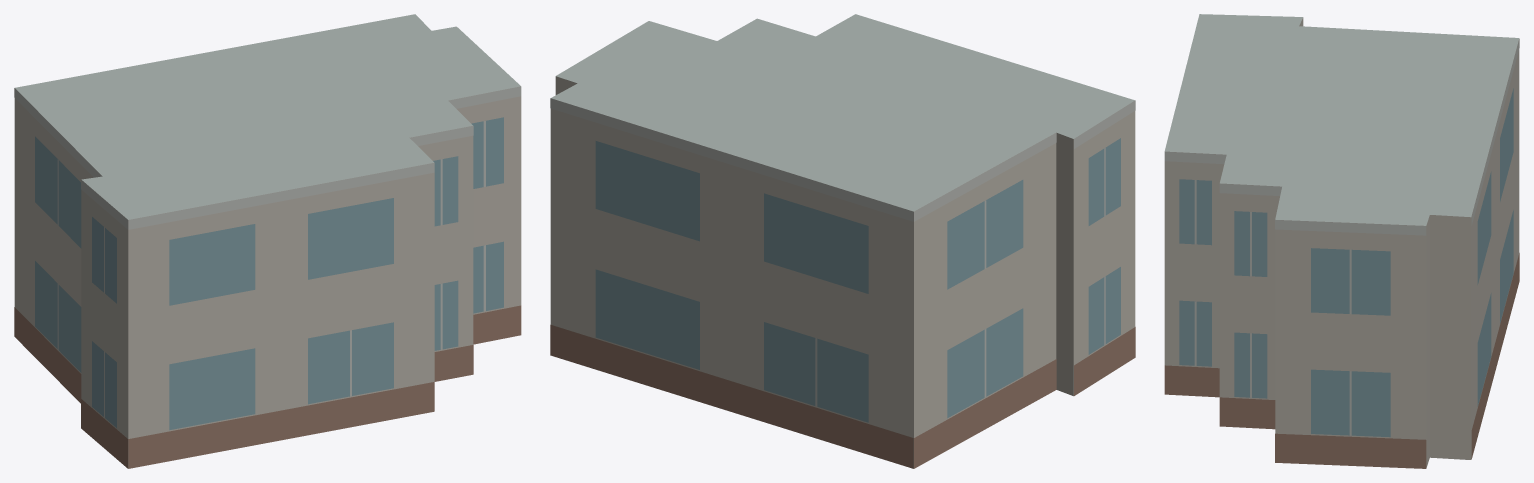
Rendered from survey-upis-32474713.glb.
3 renders of one model, left to right at view 1: azimuth 30°, elevation 25°; view 2: azimuth 150°, elevation 25°; view 3: azimuth 270°, elevation 25°, orthographic. The views are drawn at different scales.
Visible parts, largest first — view 1: survey-upis-32474713.tmp; view 2: survey-upis-32474713.tmp; view 3: survey-upis-32474713.tmp.
Boxes of the visible parts, x1,y1,x2,y2 form: survey-upis-32474713.tmp: (14,14,521,468); survey-upis-32474713.tmp: (550,14,1135,468); survey-upis-32474713.tmp: (1164,14,1519,468).
Bounding box in the file's own units: 11.42 × 6.1 × 8.09.
